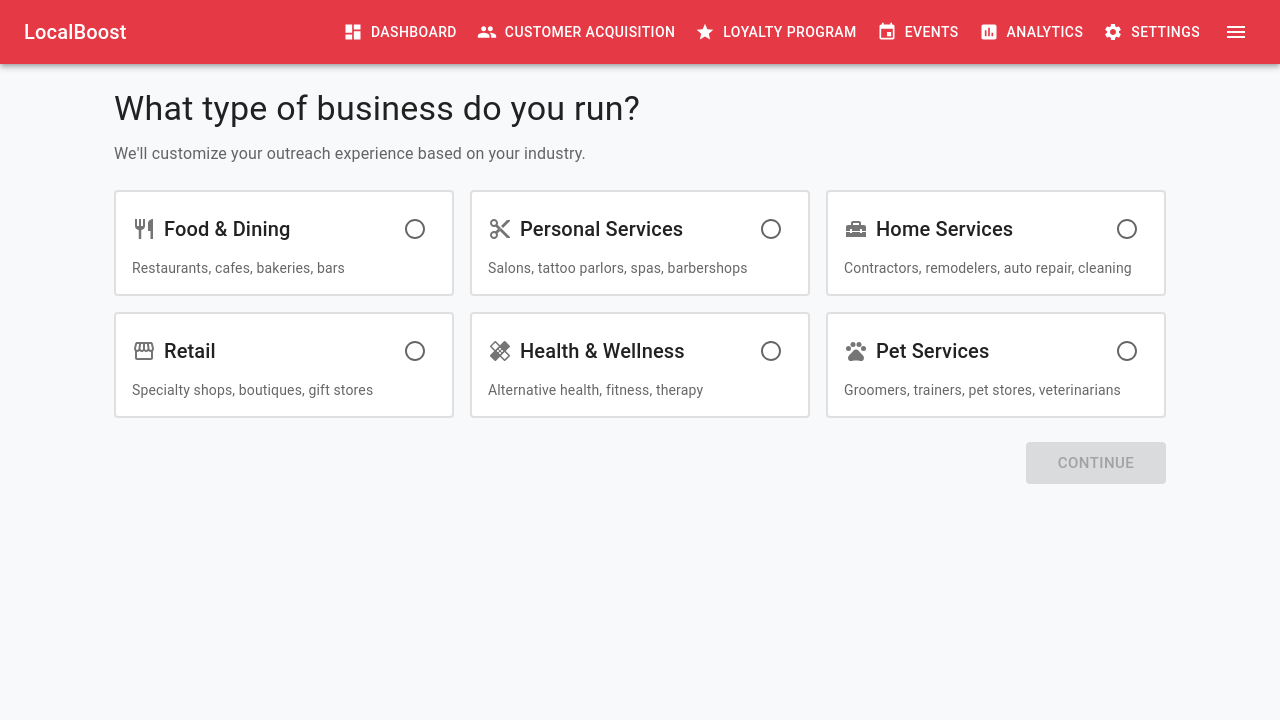
Test: signed in › a failed save keeps the user on the picker with a message
The image size is (1280, 720).
Click the heading "Retail" at [190, 351], box [164,339,216,363]
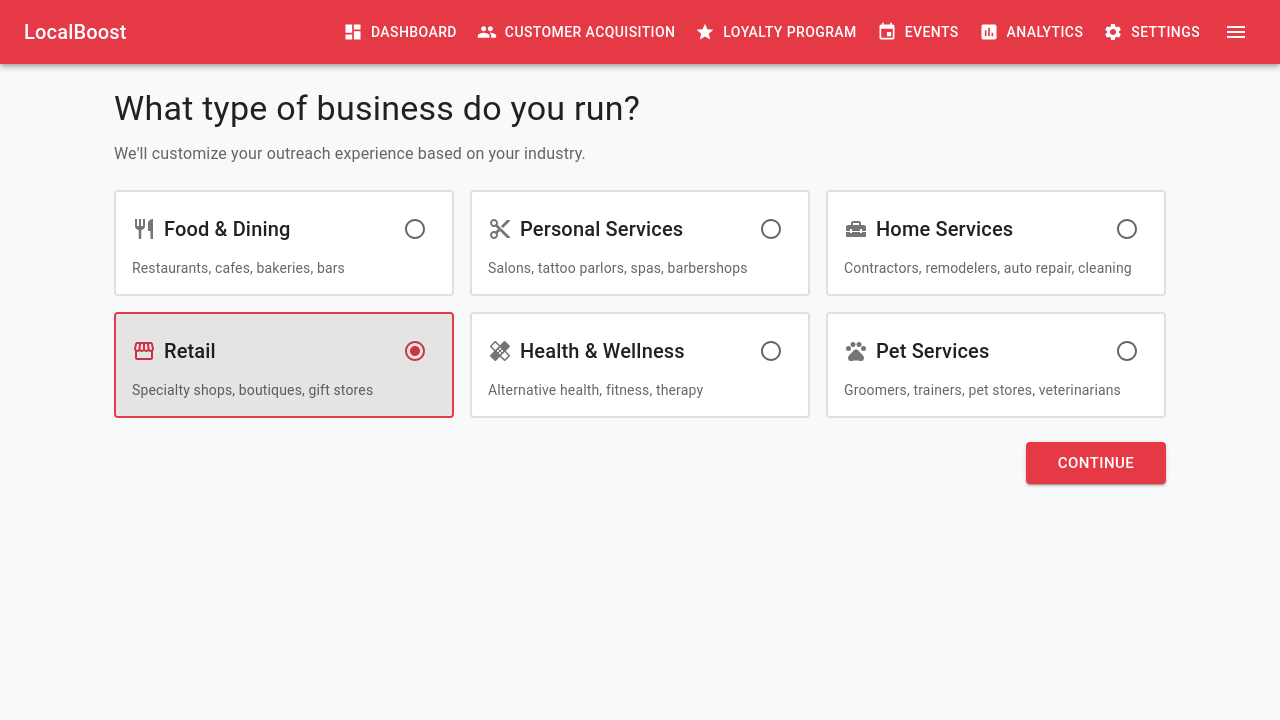
Click the button "Continue" at [1096, 463], box [1026,442,1166,484]
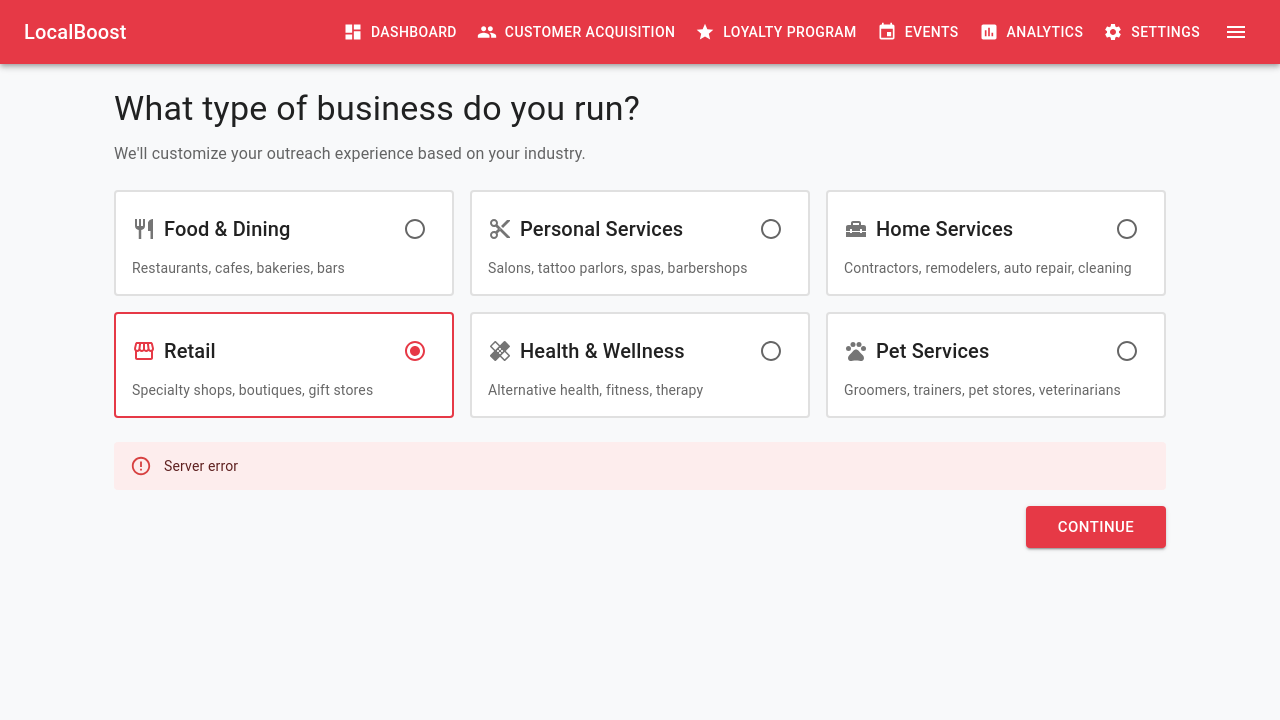
Check: the heading "What type of business do you run?" is shown, box [114,88,640,128]
Check: the button "Continue" is enabled, box [1026,506,1166,548]
Check: the message reads "Server error", box [164,458,238,474]
